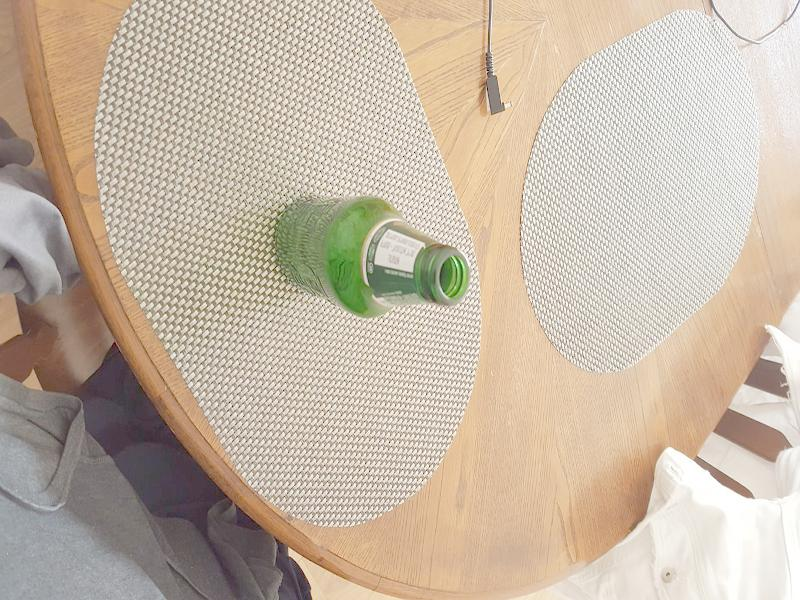Beer: (272, 197, 467, 319)
